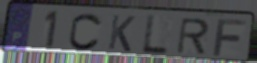1: (43, 10, 59, 51)
C: (67, 12, 104, 52)
F: (211, 17, 248, 58)
K: (106, 13, 137, 53)
L: (140, 14, 170, 56)
R: (175, 17, 211, 55)
